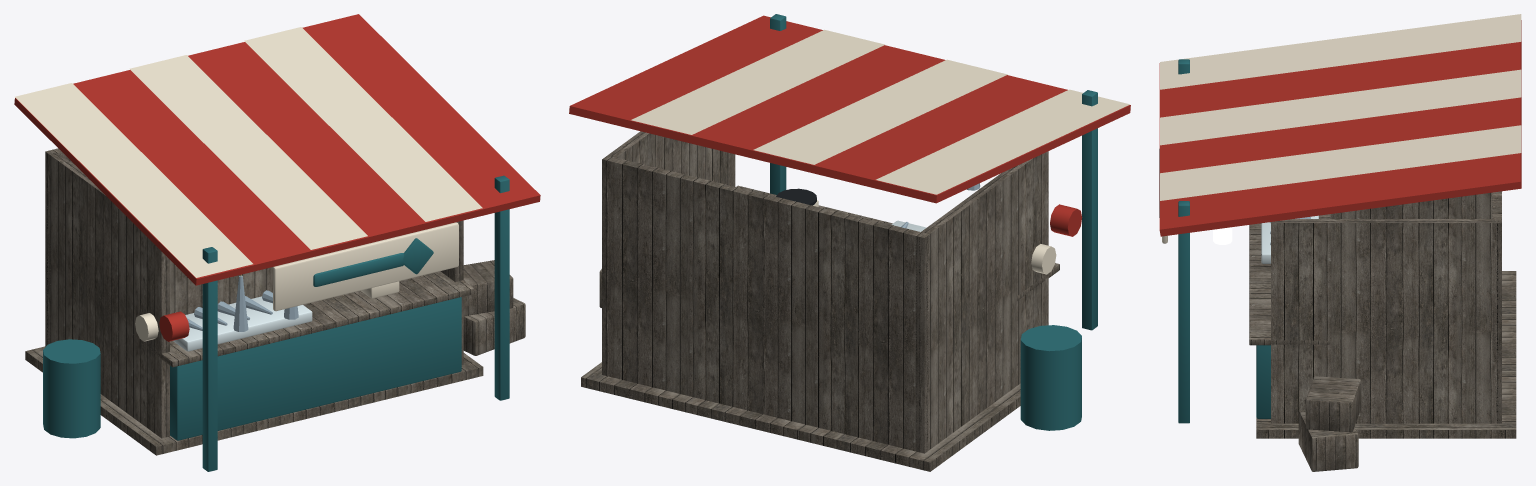
The model's file is market.glb.
3 views of the same model, side by side, from view 1: azimuth 30°, elevation 25°; view 2: azimuth 150°, elevation 25°; view 3: azimuth 270°, elevation 25° (orthographic). The views are drawn at different scales.
Visible parts, largest first — view 1: market; view 2: market; view 3: market.
Boxes of the visible parts, left/top/right/bottom form: market: left=14, top=14, right=540, bottom=471; market: left=569, top=14, right=1130, bottom=471; market: left=1159, top=14, right=1521, bottom=471.
Size of the model in its own units: 5.43 by 3 by 3.77.
Materials: 9 (1 with a texture image).
